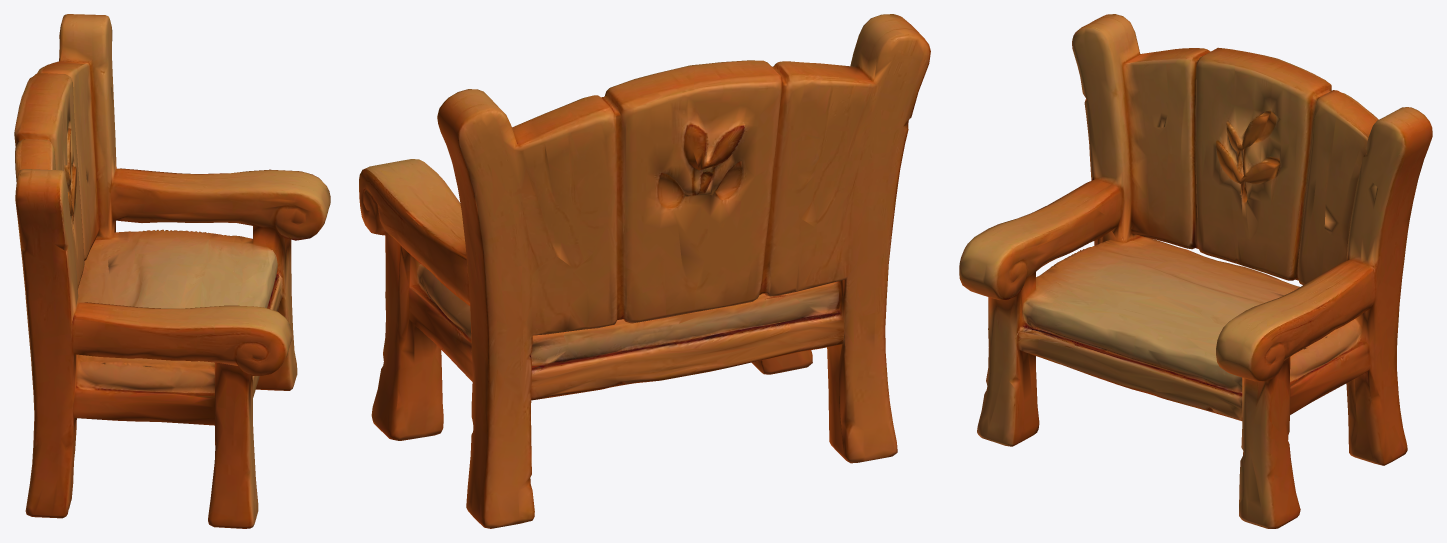
Rendered from baenkchen_wald_a.glb.
3 renders of one model, left to right at view 1: azimuth 30°, elevation 25°; view 2: azimuth 150°, elevation 25°; view 3: azimuth 270°, elevation 25°, orthographic. The views are drawn at different scales.
Parts seen in each view (by area): view 1: tripo_node_13585ba3-26f2-4f82-9c5f-f893e0105bf8; view 2: tripo_node_13585ba3-26f2-4f82-9c5f-f893e0105bf8; view 3: tripo_node_13585ba3-26f2-4f82-9c5f-f893e0105bf8.
Part boxes in pixels (box(x1,y1,x2,y2)): tripo_node_13585ba3-26f2-4f82-9c5f-f893e0105bf8: box(14, 14, 330, 528); tripo_node_13585ba3-26f2-4f82-9c5f-f893e0105bf8: box(359, 14, 930, 528); tripo_node_13585ba3-26f2-4f82-9c5f-f893e0105bf8: box(959, 14, 1432, 528).
Bounding box in the file's own units: 1.07 × 0.9116 × 1.13.
1 material, 1 textured.
